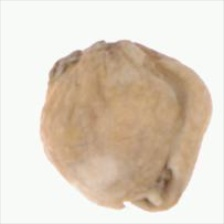L1: (114, 169, 178, 214), (48, 39, 125, 73)
L2: (40, 39, 213, 212)
